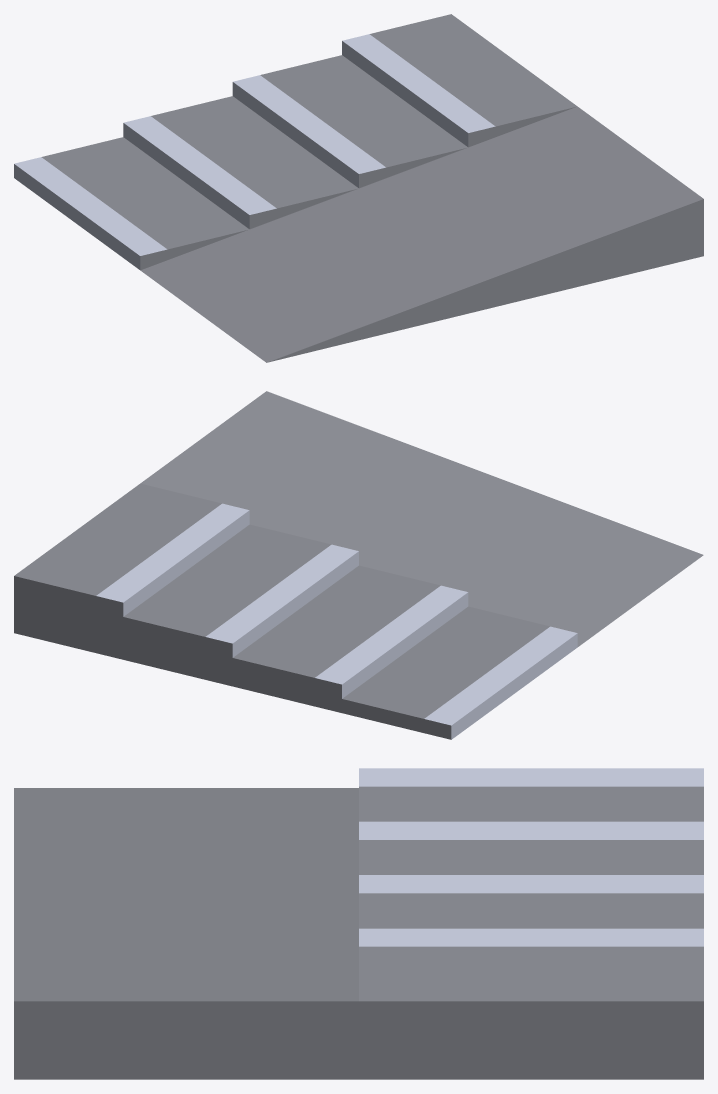
The picture shows the model from 3 angles, top to bottom: view 1: azimuth 30°, elevation 25°; view 2: azimuth 150°, elevation 25°; view 3: azimuth 270°, elevation 25°; orthographic projection. The views are drawn at different scales.
Visible parts, largest first — view 1: object_051; view 2: object_051; view 3: object_051.
Boxes of the visible parts, bbox=[...] form: object_051: bbox=[14, 14, 703, 362]; object_051: bbox=[14, 391, 703, 739]; object_051: bbox=[14, 768, 703, 1079].
Bounding box in the file's own units: 10 × 1.25 × 10.
